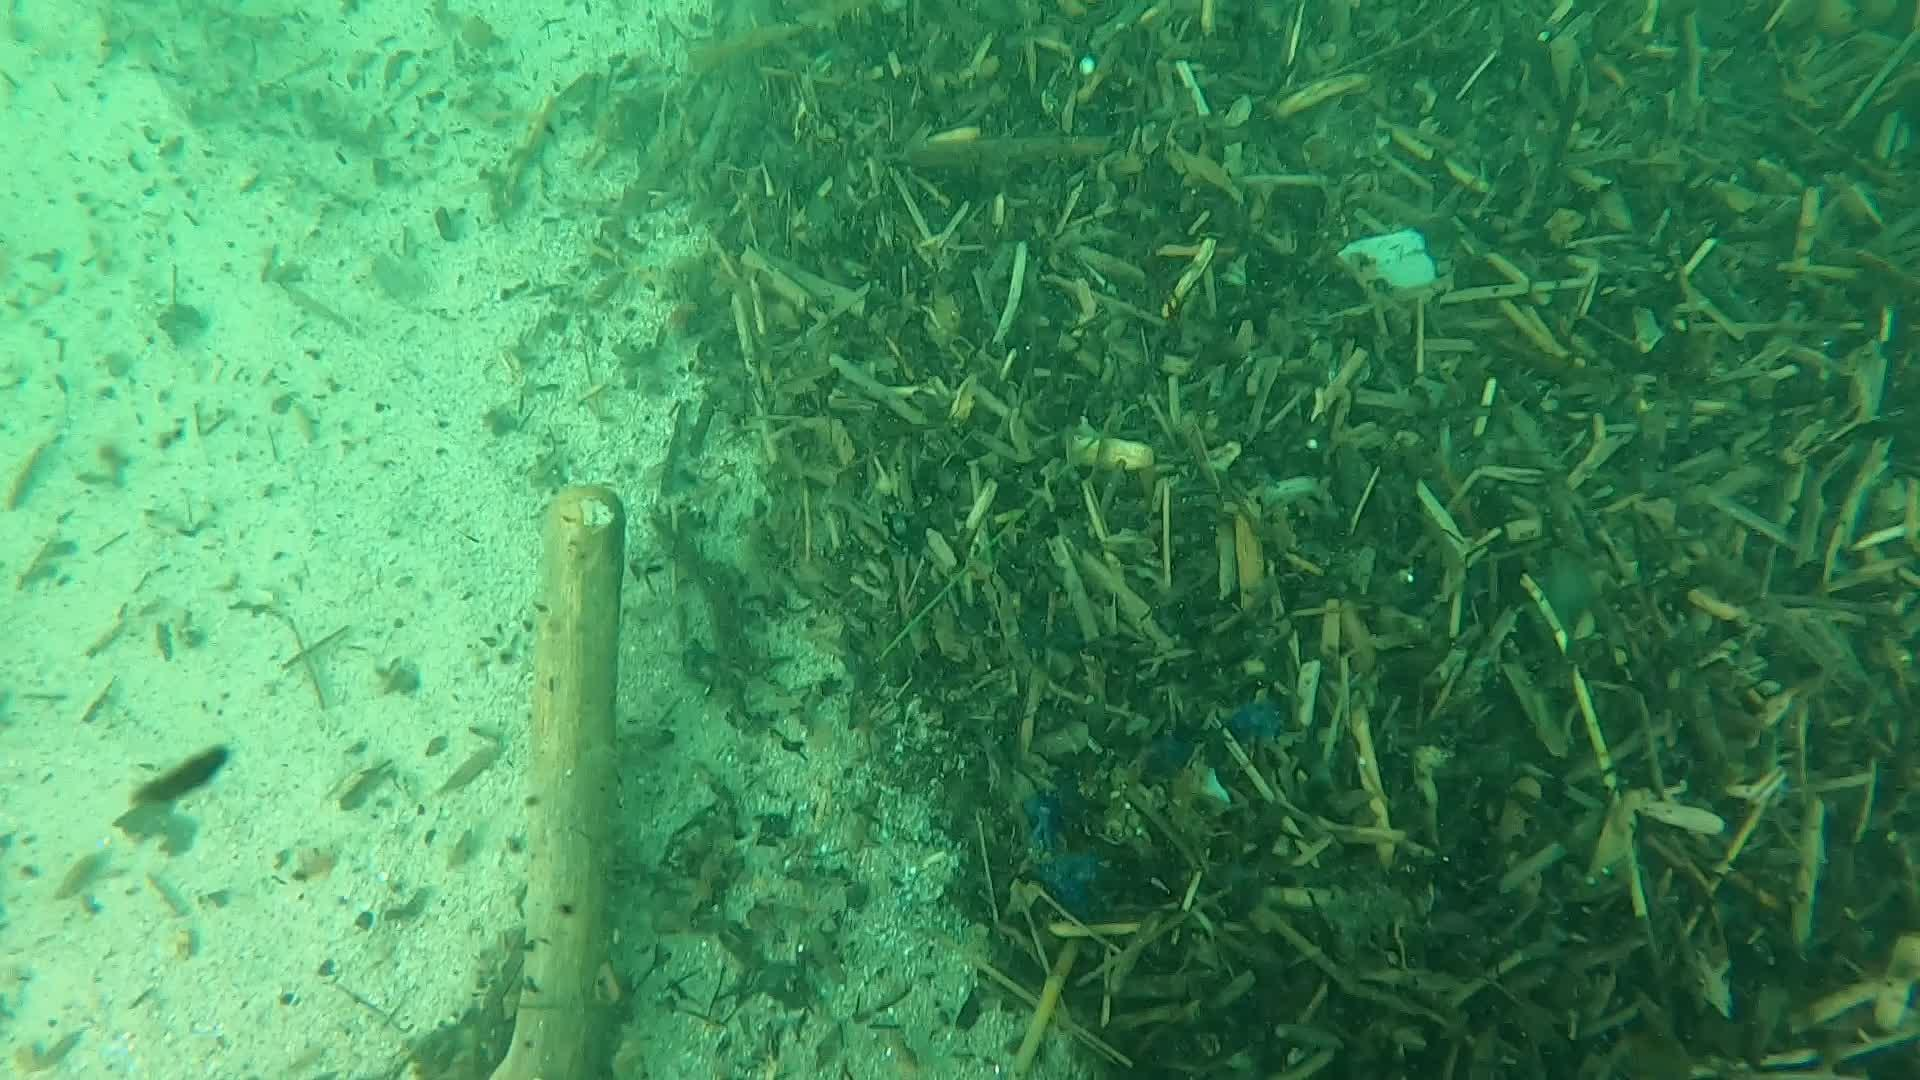wood: (485, 481, 625, 1080)
